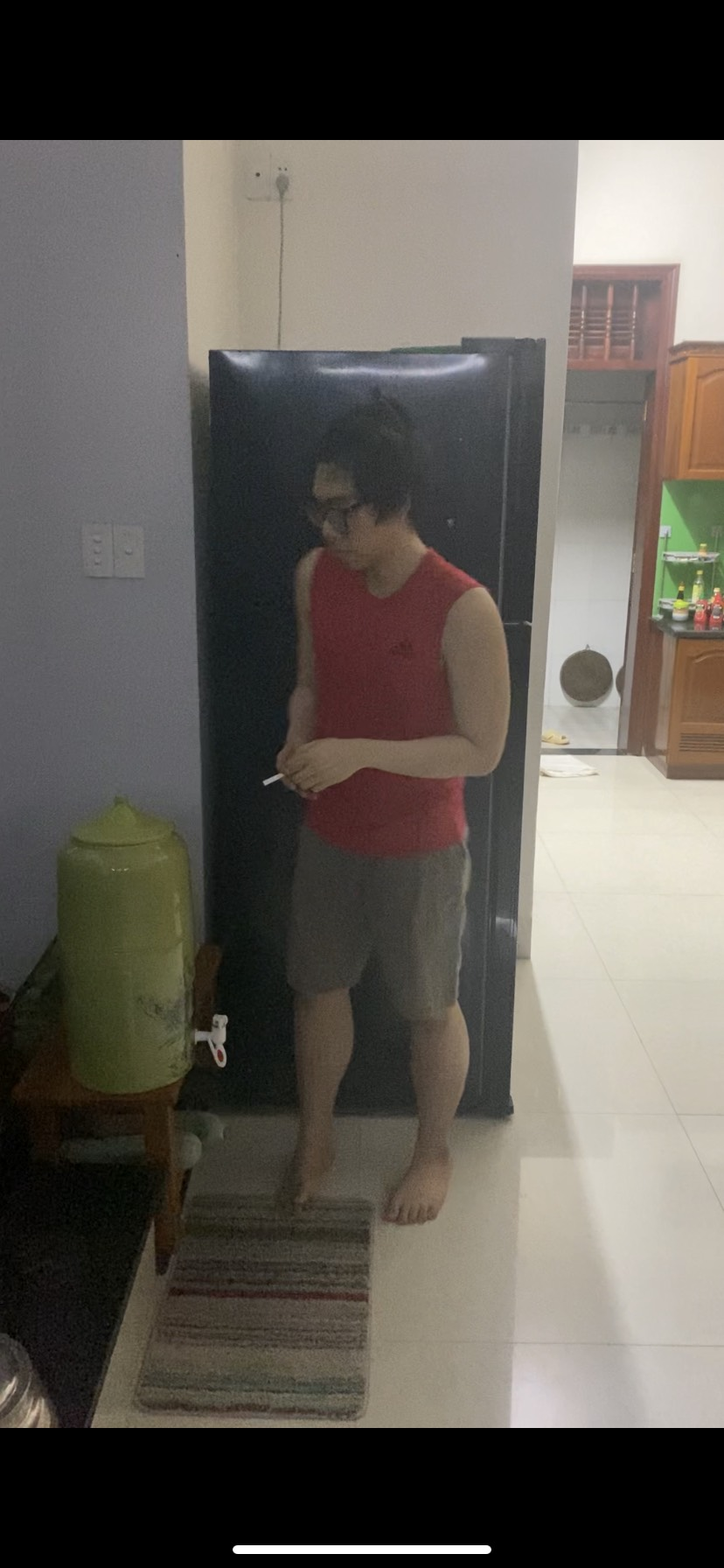cigarette: (258, 770, 285, 791)
person: (267, 381, 516, 1272)
